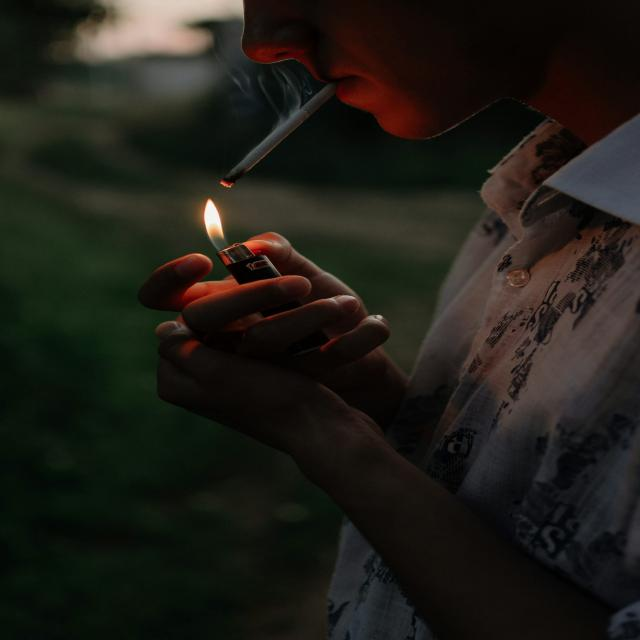fire: (204, 198, 228, 251)
